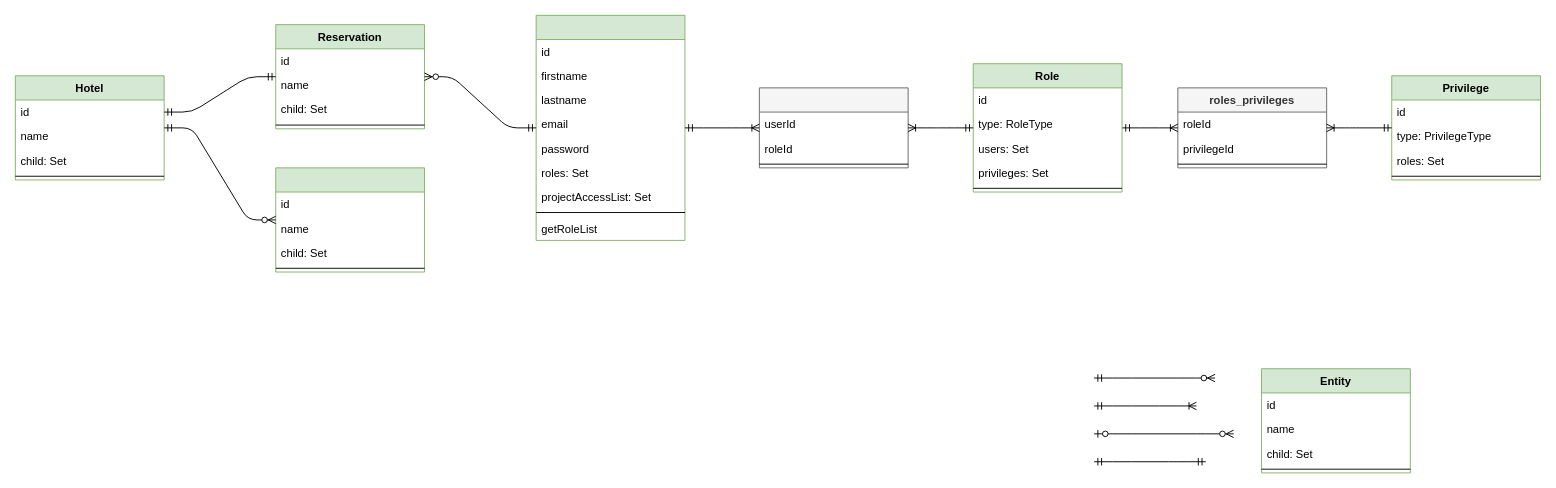
Some shapes in this 1556 by 488 pixel diagram are drawn without their labels. The box of each missing label's shape, as (x1, y1, x2, y2) in pixels:
Room: (275, 167, 425, 272)
User: (535, 14, 685, 240)
user_roles: (758, 87, 908, 168)
